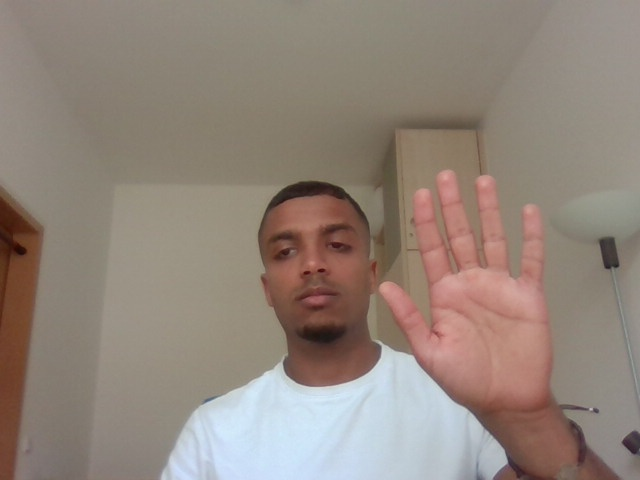never: (374, 152, 583, 428)
